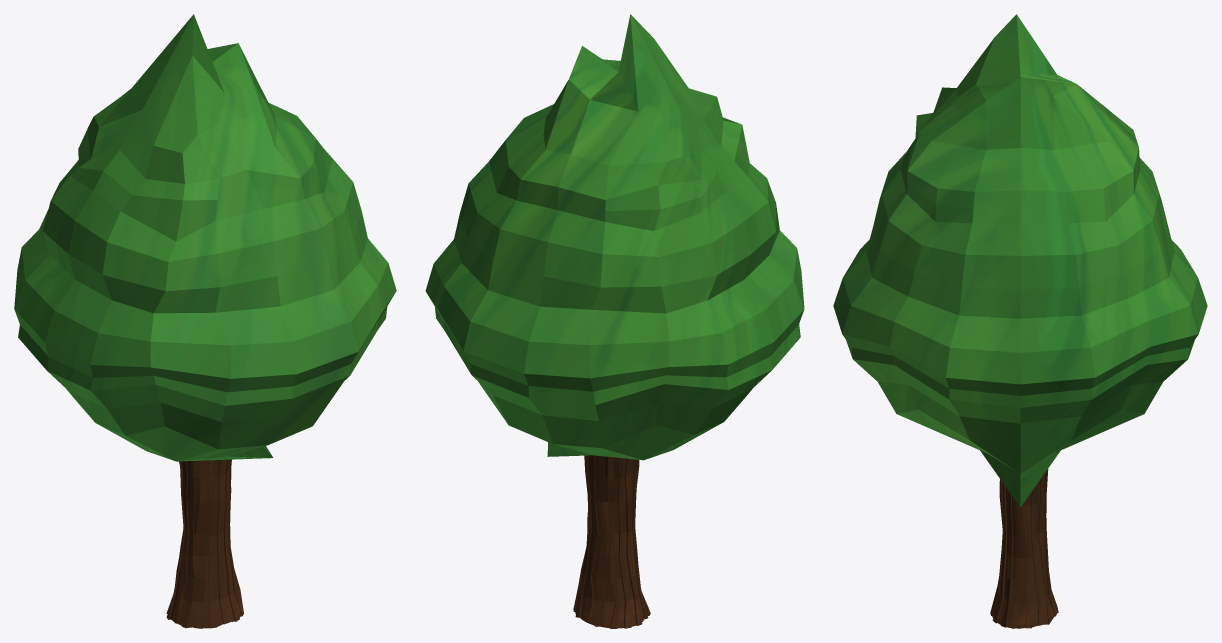
File: Tree_A.fbx
3 renders of one model, left to right at view 1: azimuth 30°, elevation 25°; view 2: azimuth 150°, elevation 25°; view 3: azimuth 270°, elevation 25°, orthographic. The views are drawn at different scales.
Visible parts, largest first — view 1: Tree_A; view 2: Tree_A; view 3: Tree_A.
Boxes of the visible parts, x1,y1,x2,y2 form: Tree_A: (14, 14, 396, 628); Tree_A: (425, 14, 804, 628); Tree_A: (833, 14, 1207, 628).
Size of the model in its own units: 2133 by 3848 by 2201.
